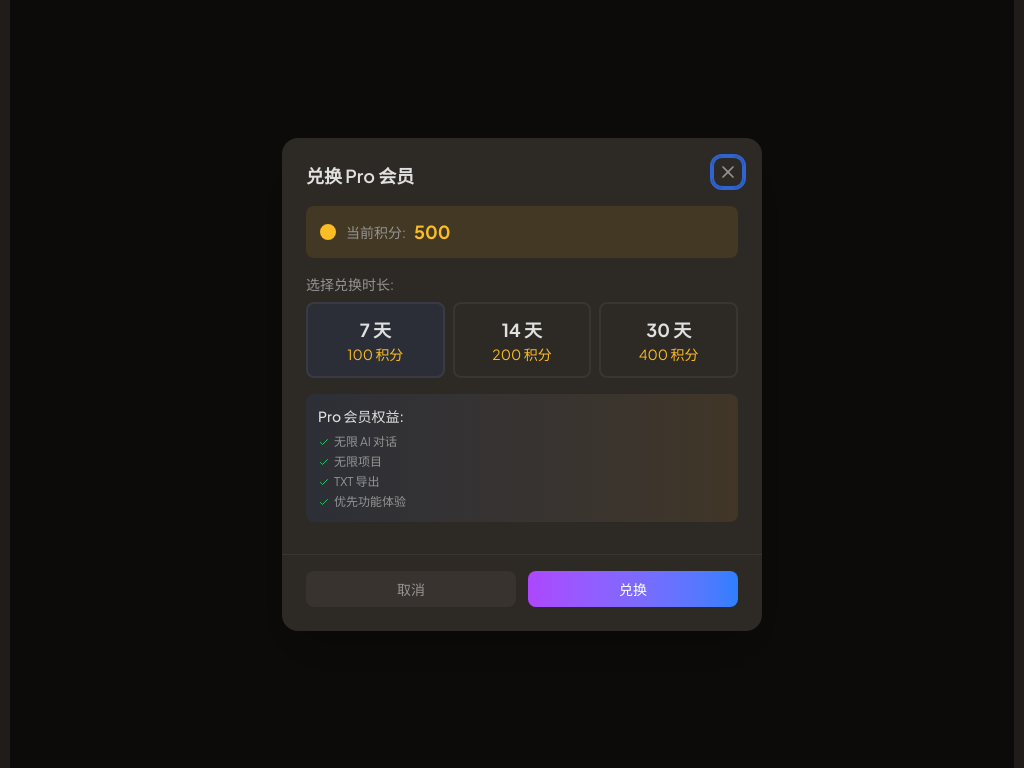
it: RedeemProModal › Redeem Action › shows loading state during redemption
Click the button "兑换".
click(633, 588)  # box top-left (528, 570), bottom-right (738, 606)
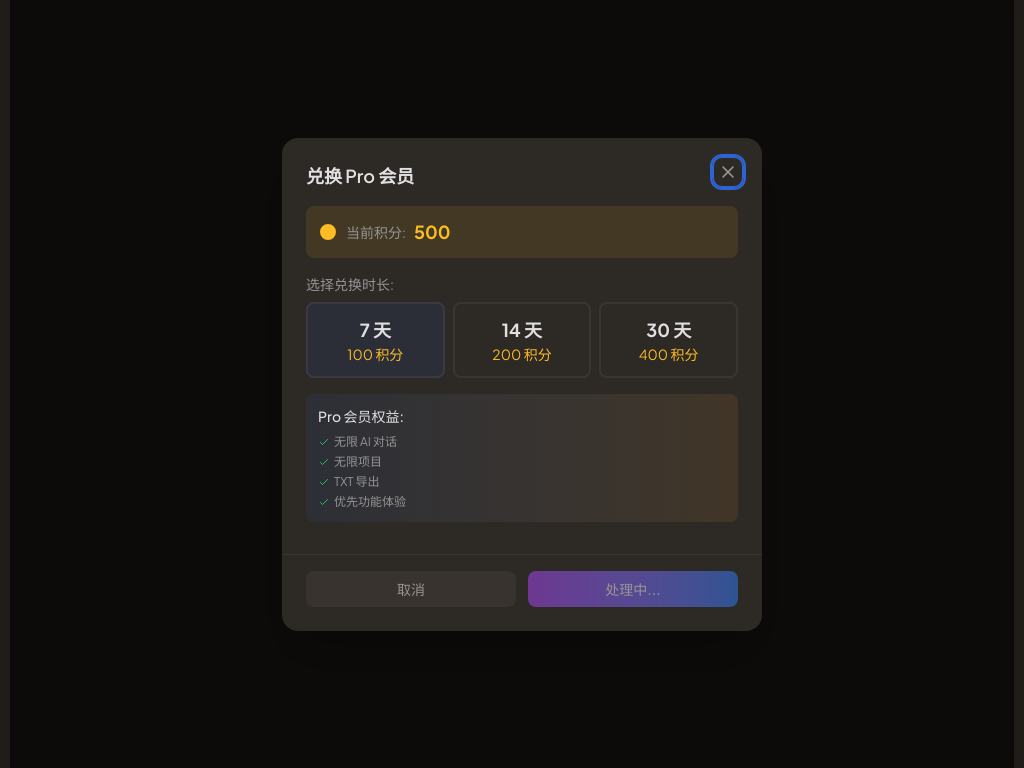
expect the button "处理中..." is shown: met, box top-left (528, 570), bottom-right (738, 606)
